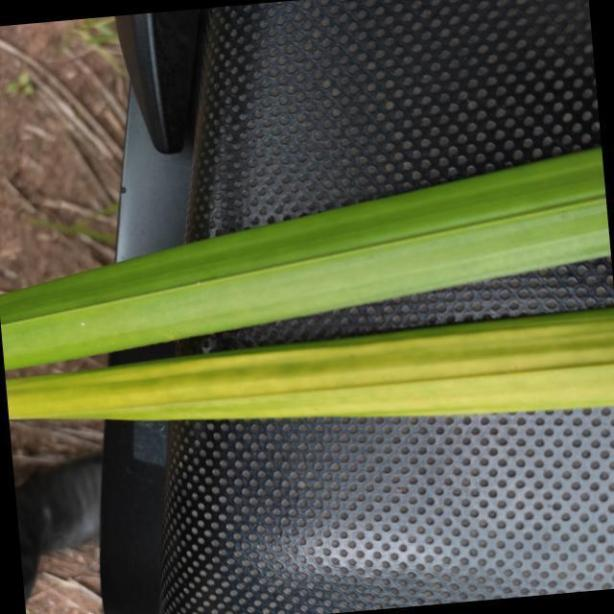nitrogen: (0, 141, 614, 374), (0, 308, 614, 421)
